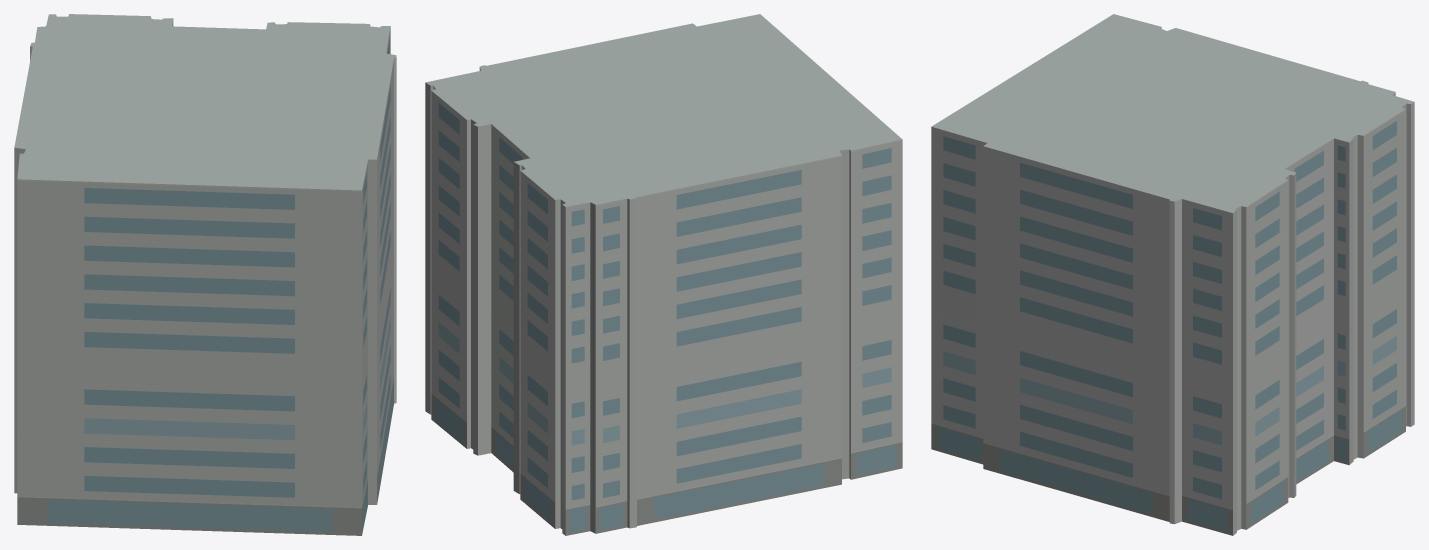
Rendered from survey-upis-32731265.glb.
The picture shows the model from 3 angles, left to right: view 1: azimuth 30°, elevation 25°; view 2: azimuth 150°, elevation 25°; view 3: azimuth 270°, elevation 25°; orthographic projection. The views are drawn at different scales.
Parts seen in each view (by area): view 1: survey-upis-32731265.tmp; view 2: survey-upis-32731265.tmp; view 3: survey-upis-32731265.tmp.
Boxes of the visible parts, left/top/right/bottom form: survey-upis-32731265.tmp: left=14, top=14, right=396, bottom=535; survey-upis-32731265.tmp: left=425, top=14, right=902, bottom=535; survey-upis-32731265.tmp: left=931, top=14, right=1414, bottom=535.
Size of the model in its own units: 70.21 by 53 by 71.96.
